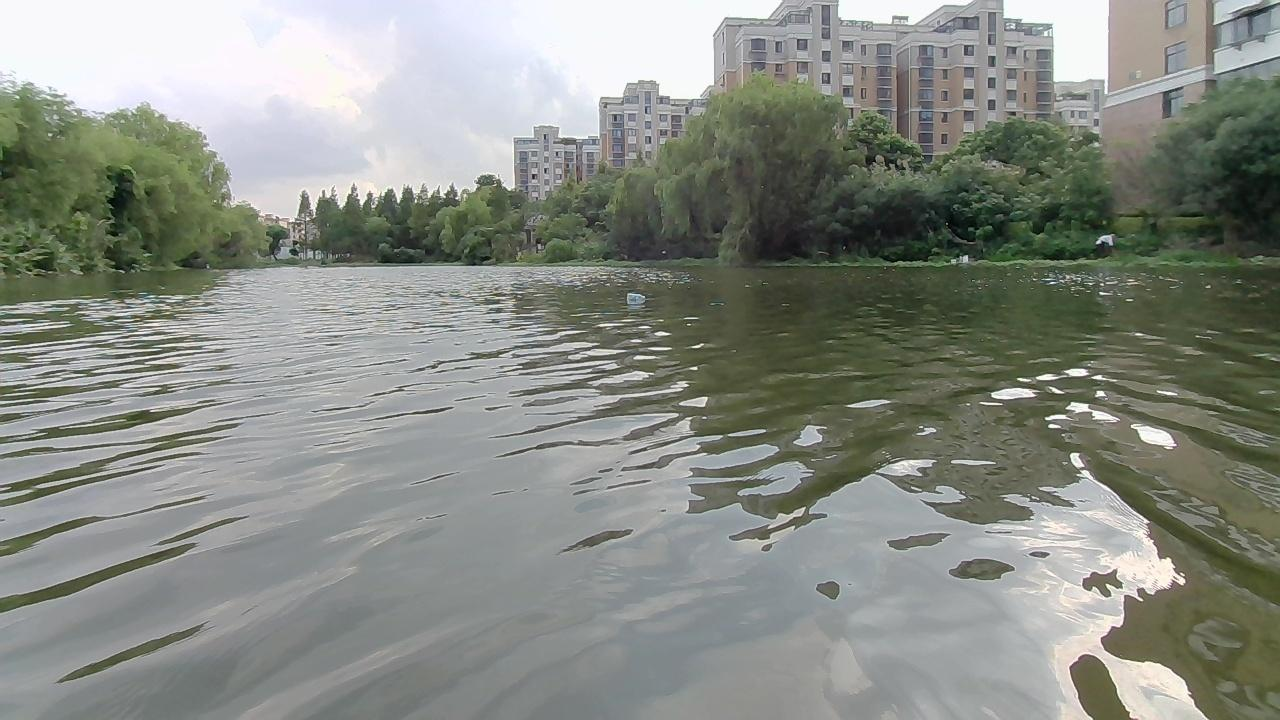bottle: (625, 289, 643, 303)
